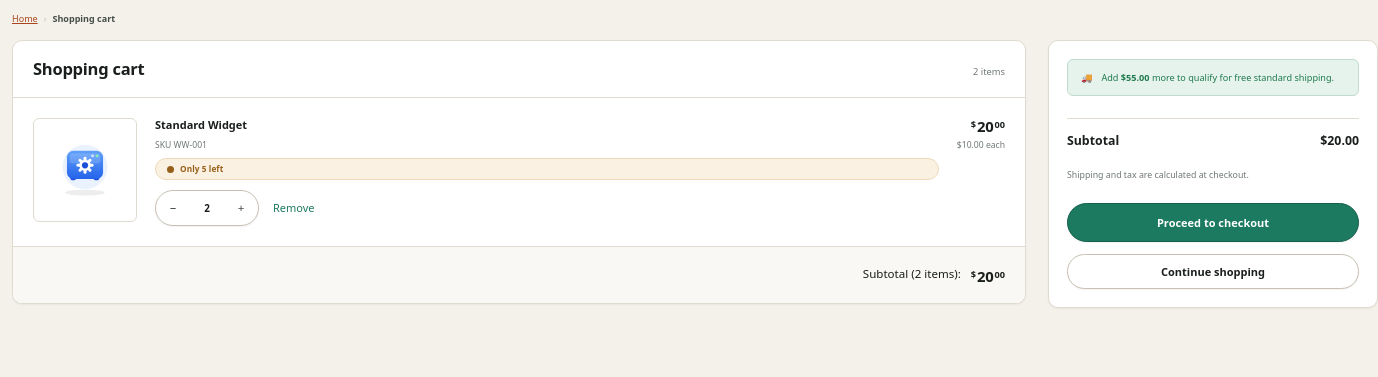
Scenario: CartPage › shows why an update failed instead of silently ignoring it
Click the button named "Increase quantity of Standard Widget": (241, 208) [224,191,258,225]
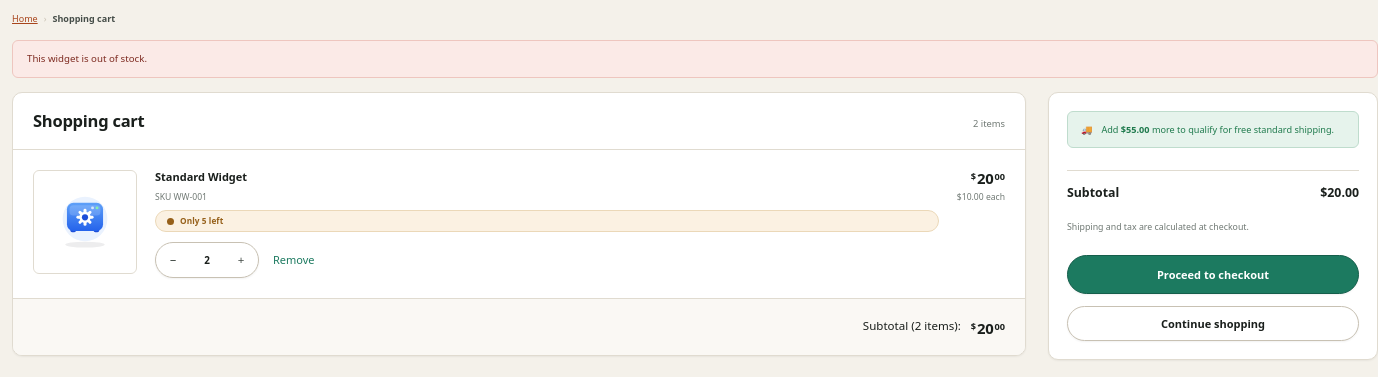
Result: the text "This widget is out of stock." is shown at [12,40,1377,78]
